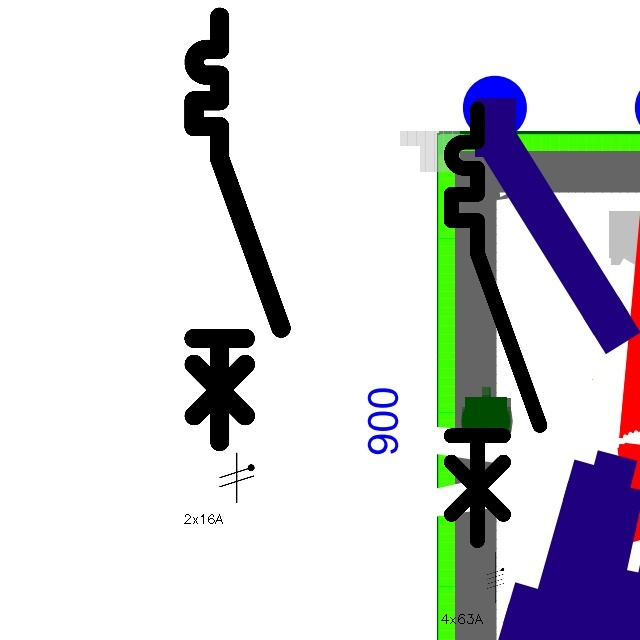interruptor_termomagnetico: (440, 98, 551, 552), (183, 6, 292, 452)
